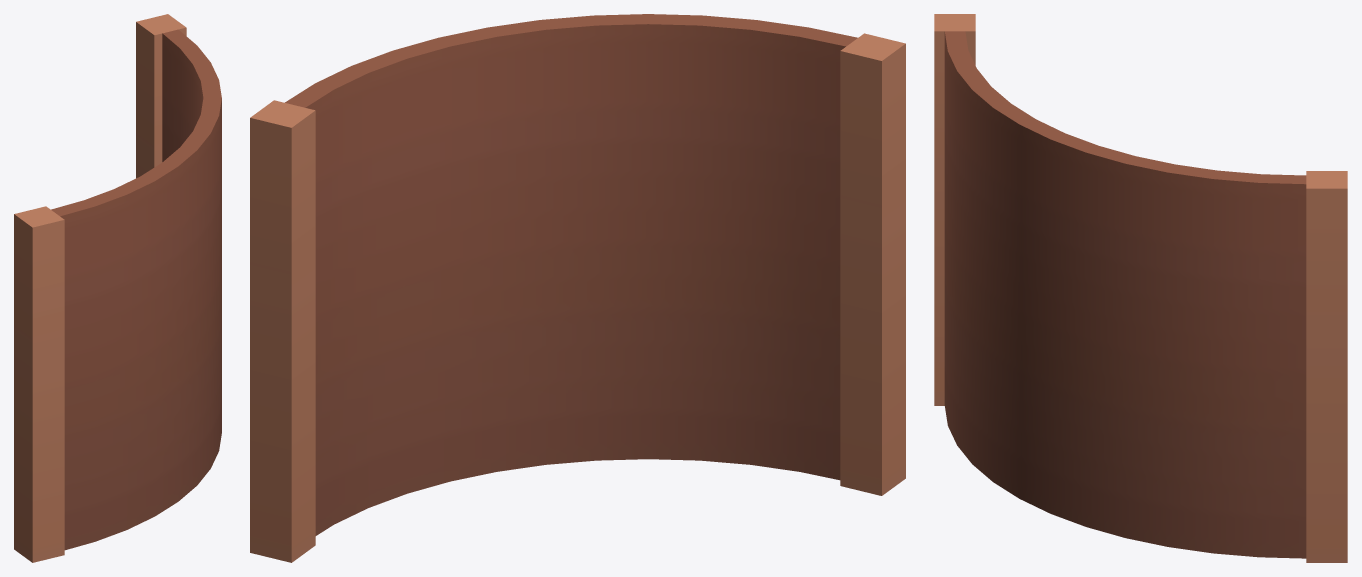
Rendered from wall-wood-curved.glb.
3 renders of one model, left to right at view 1: azimuth 30°, elevation 25°; view 2: azimuth 150°, elevation 25°; view 3: azimuth 270°, elevation 25°, orthographic. The views are drawn at different scales.
Parts seen in each view (by area): view 1: wall-wood-curved; view 2: wall-wood-curved; view 3: wall-wood-curved.
Boxes of the visible parts, box(x1,y1,x2,y2) form: wall-wood-curved: box(14, 14, 221, 562); wall-wood-curved: box(250, 14, 905, 562); wall-wood-curved: box(934, 14, 1347, 562).
Bounding box in the file's own units: 1 × 1 × 1.
Materials: 1 (1 with a texture image).
